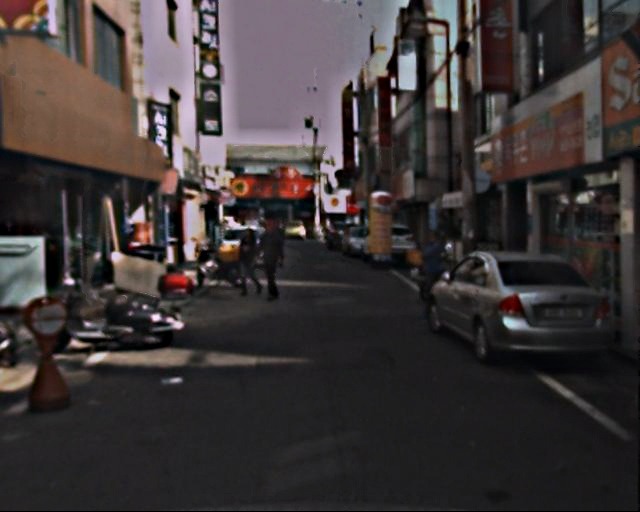person: (418, 228, 451, 323), (258, 216, 291, 307), (237, 226, 267, 302)
